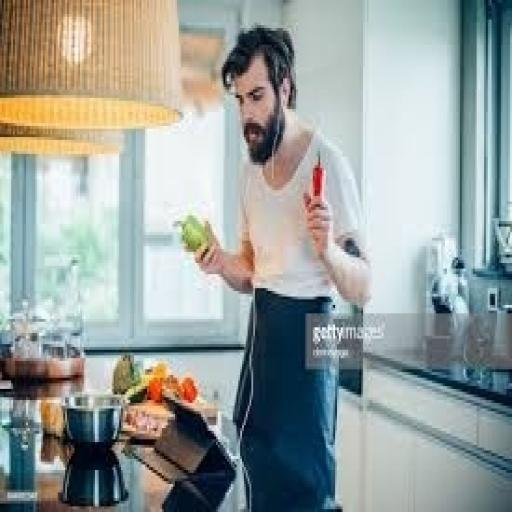listening_to_music: (188, 22, 374, 510)
